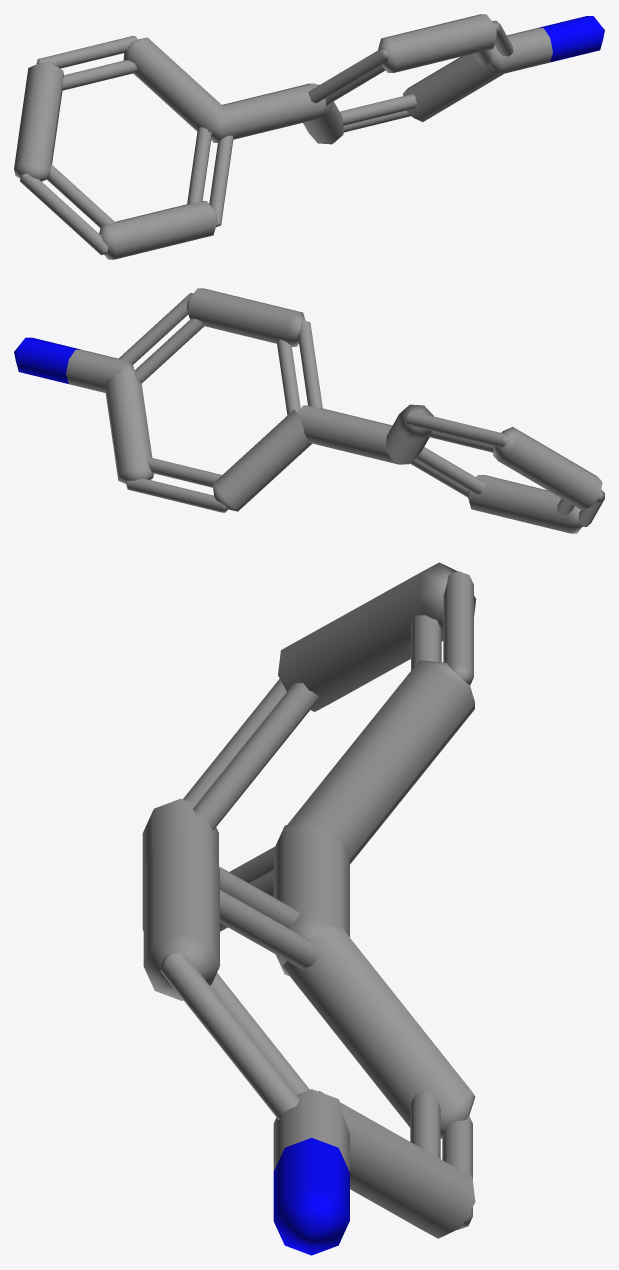
Rendered from 4amin.glb.
The picture shows the model from 3 angles, top to bottom: view 1: azimuth 30°, elevation 25°; view 2: azimuth 150°, elevation 25°; view 3: azimuth 270°, elevation 25°; orthographic projection. The views are drawn at different scales.
Parts seen in each view (by area): view 1: node-geom6; view 2: node-geom6; view 3: node-geom6.
Part boxes in pixels (box(x1,y1,x2,y2)): node-geom6: box(14, 14, 604, 259); node-geom6: box(14, 288, 604, 533); node-geom6: box(142, 562, 476, 1255).
Size of the model in its own units: 8.9 by 2.21 by 2.19.
